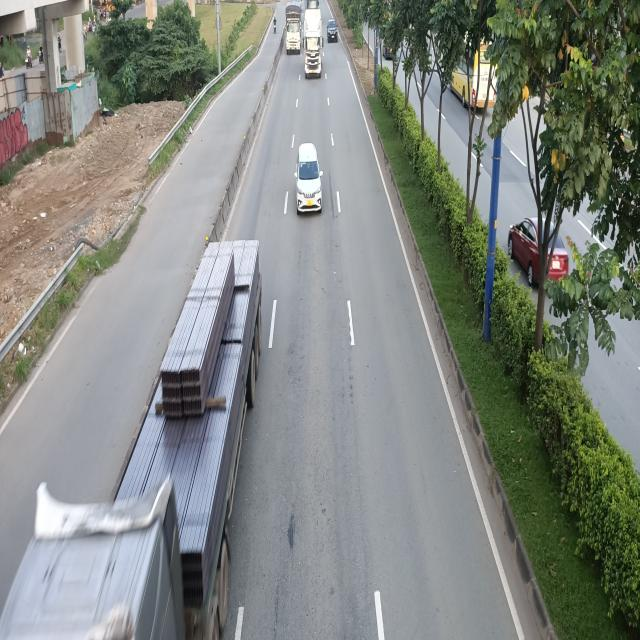car: (293, 145, 322, 216), (325, 20, 338, 43), (329, 18, 341, 41)
container: (0, 241, 269, 639), (304, 6, 324, 80)
truck: (284, 4, 302, 56)
